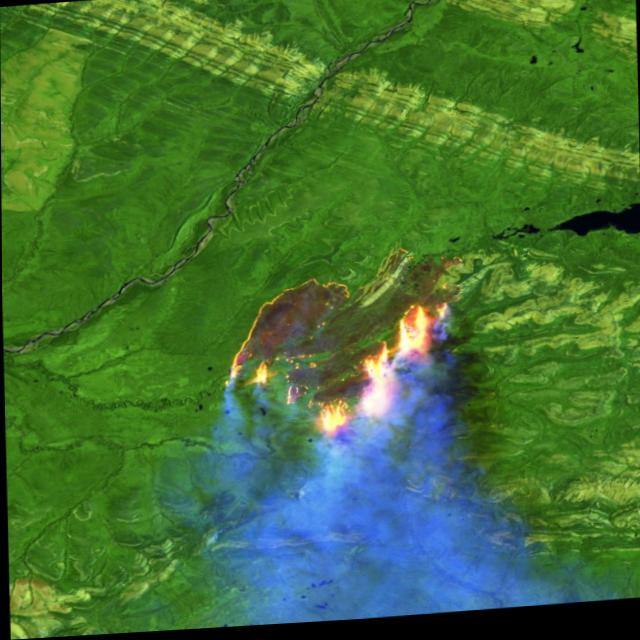fire: (223, 268, 452, 453)
